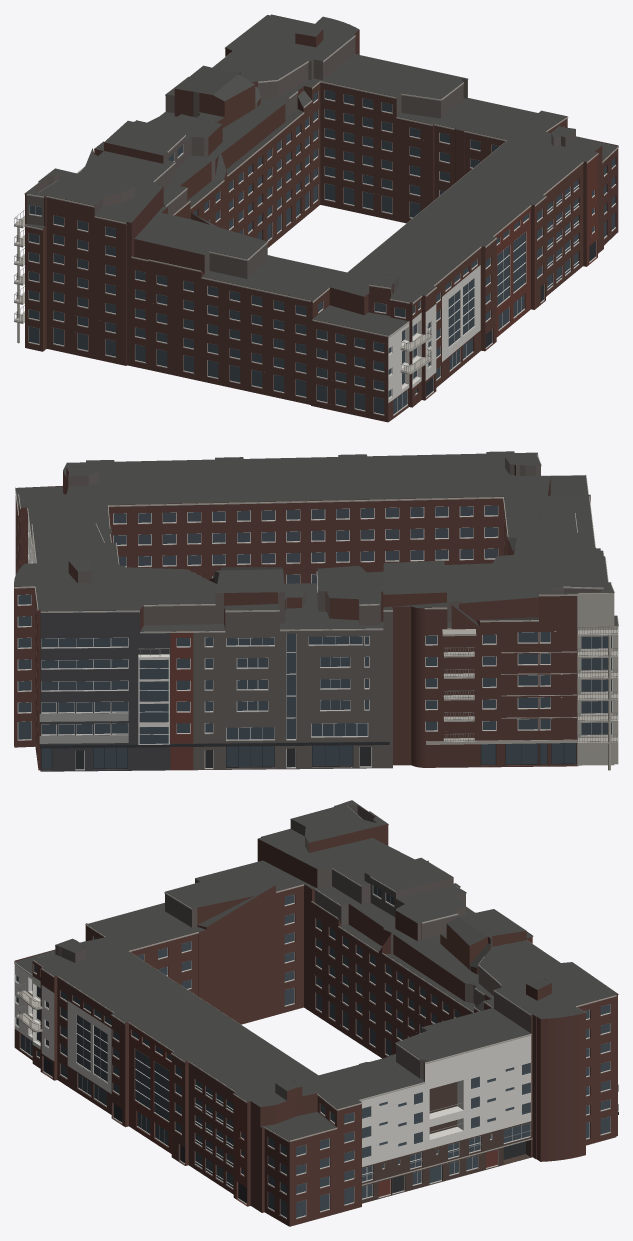
File: valkenburgerstraat-69.glb
3 views of the same model, one above another, from view 1: azimuth 30°, elevation 25°; view 2: azimuth 150°, elevation 25°; view 3: azimuth 270°, elevation 25° (orthographic). The views are drawn at different scales.
Parts seen in each view (by area): view 1: valkenburgerstraat-69; view 2: valkenburgerstraat-69; view 3: valkenburgerstraat-69.
Boxes of the visible parts, x1,y1,x2,y2 form: valkenburgerstraat-69: (14, 14, 618, 422); valkenburgerstraat-69: (14, 451, 618, 771); valkenburgerstraat-69: (14, 800, 618, 1226).
Size of the model in its own units: 84.3 by 21.74 by 77.59.
